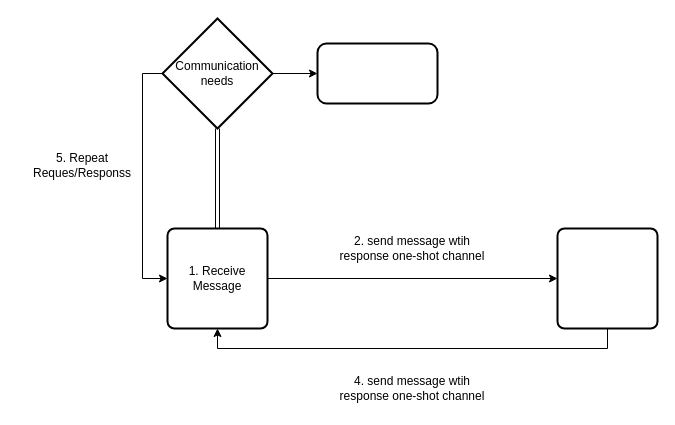
This 675x425 diagram has some shape labels left out. The box of each missing label's shape, as (x1, y1, x2, y2) in pixels:
3. Beelay State machine Processes: (556, 227, 658, 329)
6. Dial additional nodes and reconcile: (316, 42, 438, 104)
